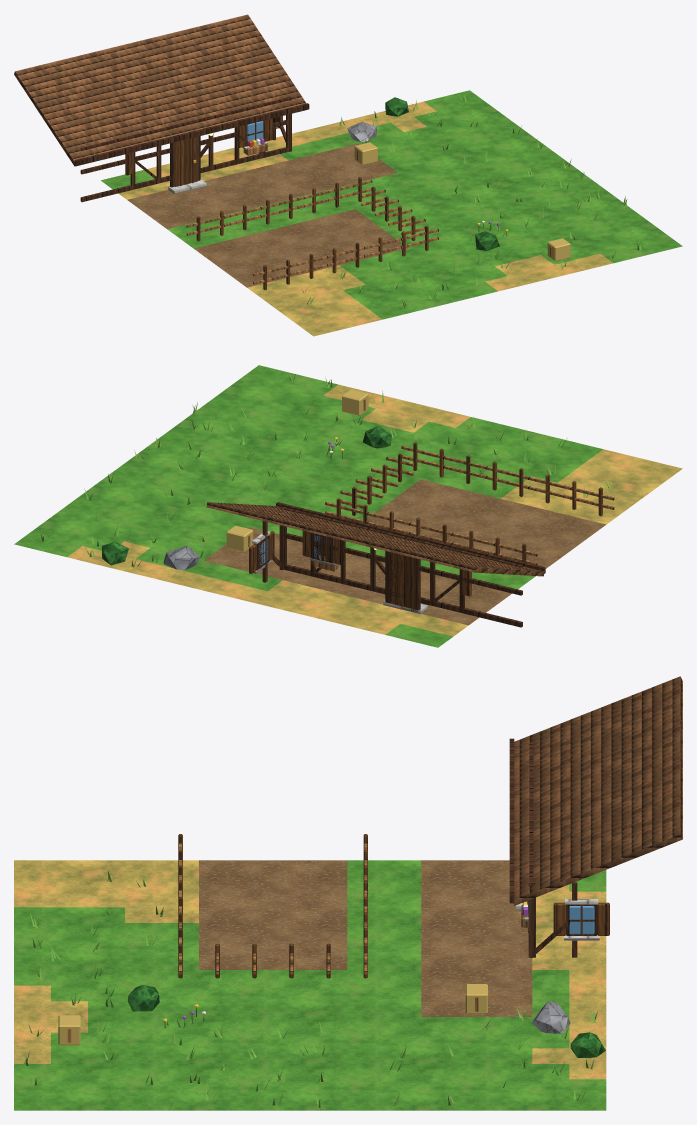
The model's file is chunk_10_10.glb.
The picture shows the model from 3 angles, top to bottom: view 1: azimuth 30°, elevation 25°; view 2: azimuth 150°, elevation 25°; view 3: azimuth 270°, elevation 25°; orthographic projection. The views are drawn at different scales.
Visible parts, largest first — view 1: chunk_10_10; view 2: chunk_10_10; view 3: chunk_10_10.
Boxes of the visible parts, x1,y1,x2,y2 form: chunk_10_10: (14,14,682,336); chunk_10_10: (14,365,682,647); chunk_10_10: (14,676,682,1110).
Size of the model in its own units: 18.57 by 4.63 by 18.07.
21 materials, 11 textured.
